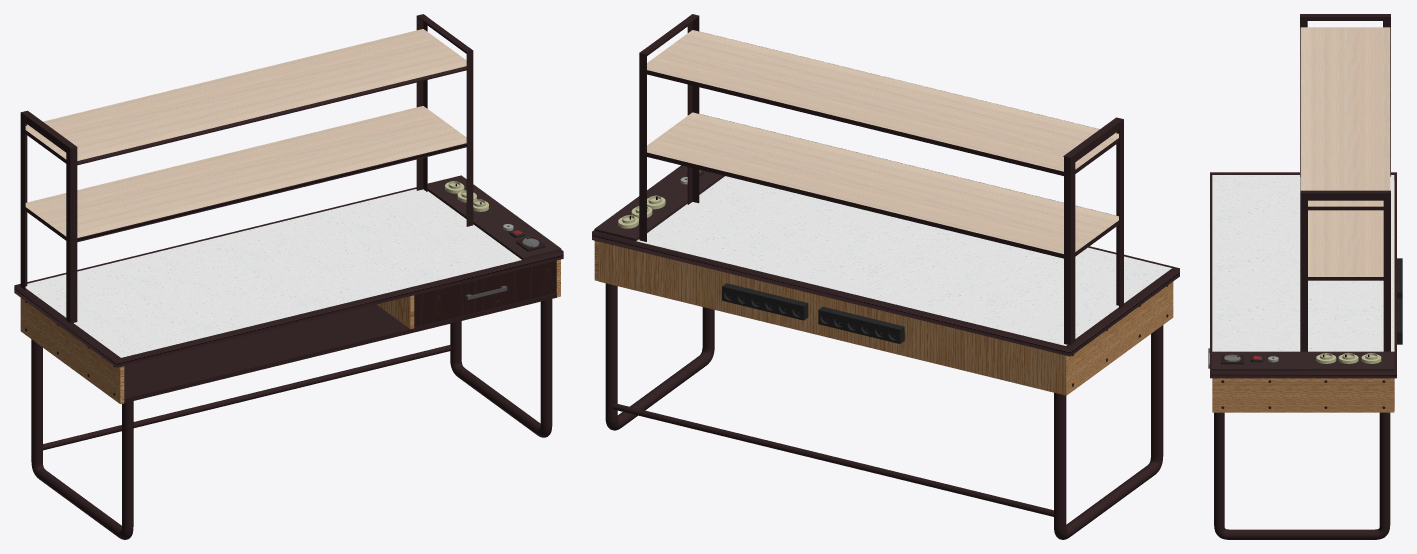
Rendered from Biurko308.fbx.
The picture shows the model from 3 angles, left to right: view 1: azimuth 30°, elevation 25°; view 2: azimuth 150°, elevation 25°; view 3: azimuth 270°, elevation 25°; orthographic projection. The views are drawn at different scales.
Parts seen in each view (by area): view 1: Cube.013; view 2: Cube.013; view 3: Cube.013.
Part boxes in pixels (x1,y1,x2,y2): Cube.013: [14, 14, 563, 539]; Cube.013: [592, 14, 1179, 539]; Cube.013: [1208, 14, 1402, 539].
Bounding box in the file's own units: 204 × 159 × 84.07.
19 materials, 5 textured.
